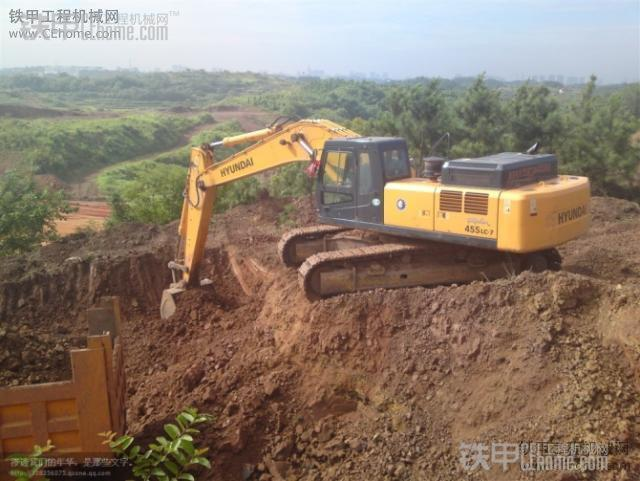excavator: (149, 112, 596, 336)
